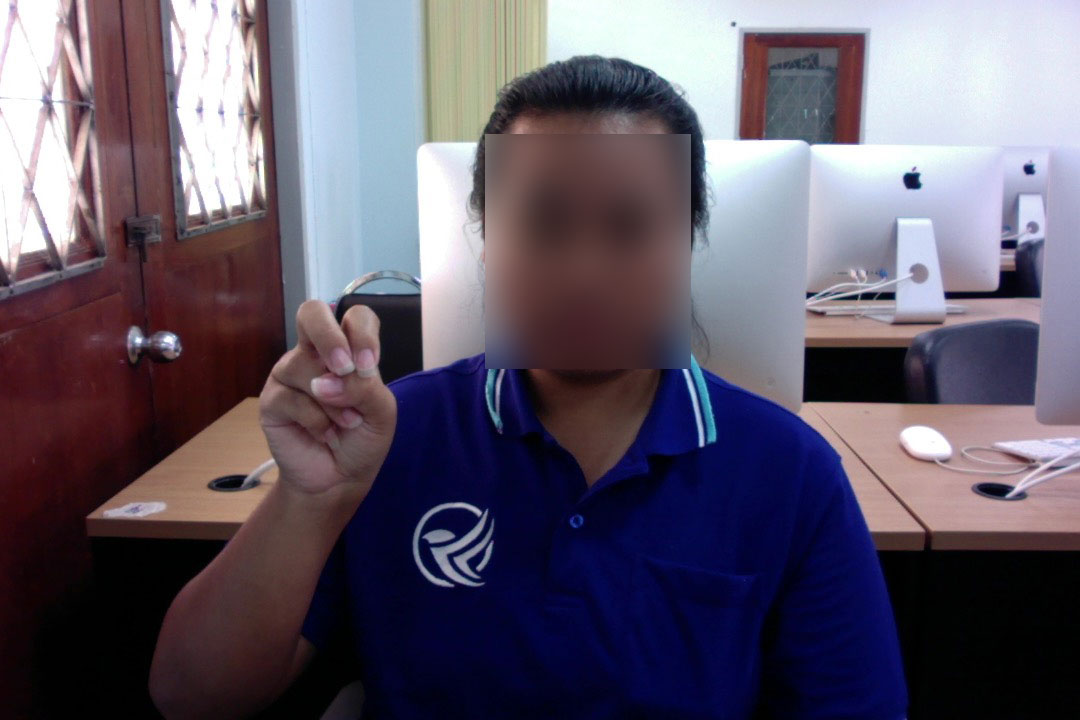nor: (249, 292, 404, 534)
